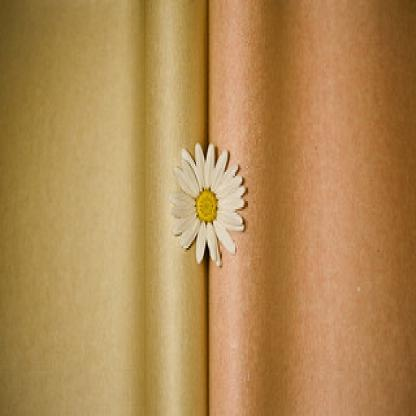ASTER: (143, 101, 320, 331)
